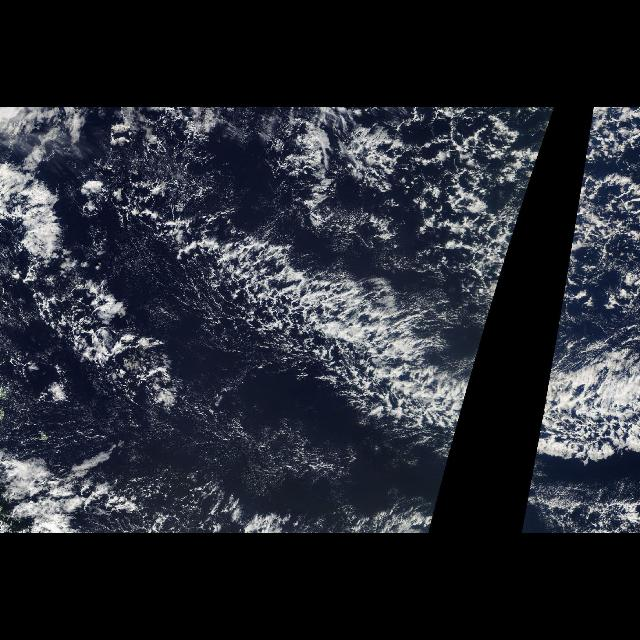Fish: (210, 270, 504, 498), (2, 166, 178, 460), (526, 270, 640, 498)
Gravel: (248, 110, 546, 324)
